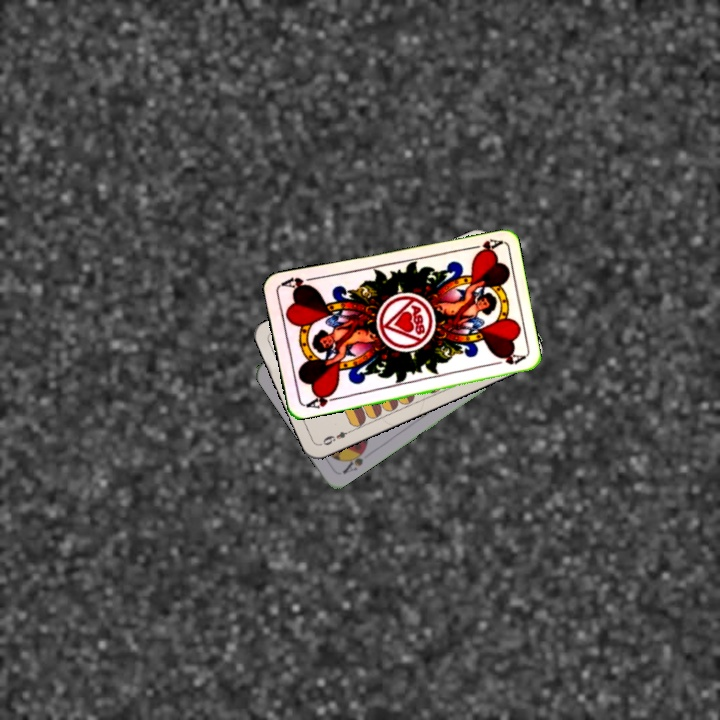E9: (317, 425, 355, 448)
HA: (300, 387, 341, 411), (462, 235, 503, 257)
SA: (338, 443, 369, 477)
